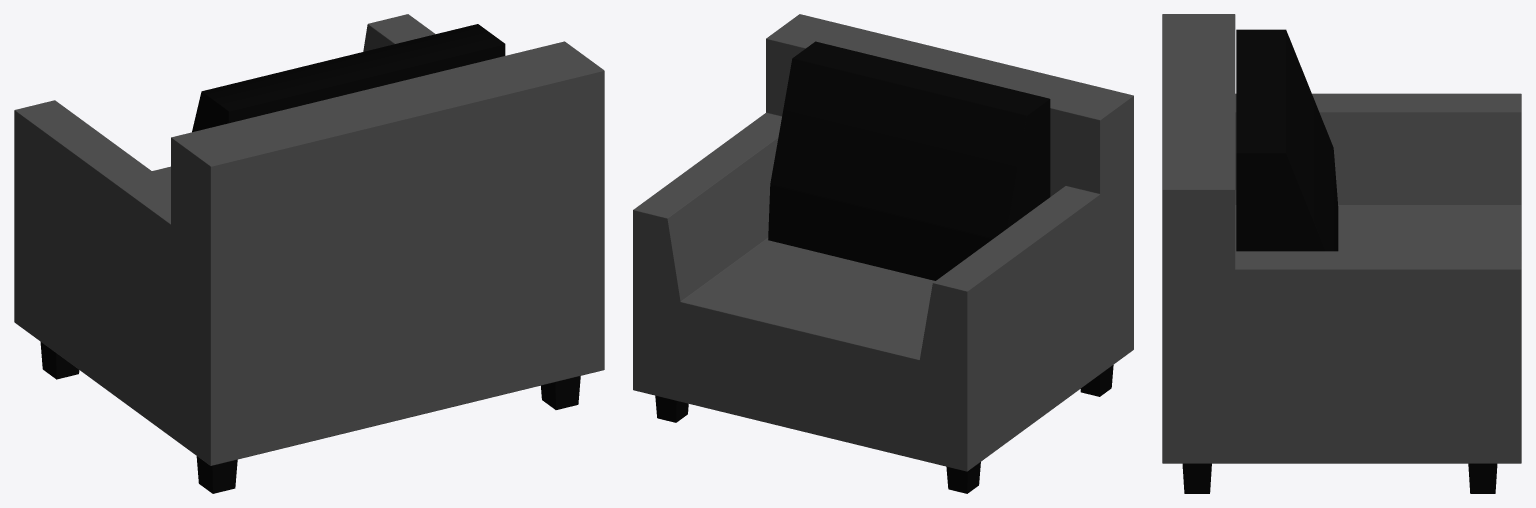
Rendered from Sillon1.fbx.
3 renders of one model, left to right at view 1: azimuth 30°, elevation 25°; view 2: azimuth 150°, elevation 25°; view 3: azimuth 270°, elevation 25°, orthographic. The views are drawn at different scales.
Visible parts, largest first — view 1: Armchair; view 2: Armchair; view 3: Armchair.
Boxes of the visible parts, x1=… form: Armchair: x1=14, y1=14, x2=604, y2=493; Armchair: x1=633, y1=14, x2=1133, y2=493; Armchair: x1=1162, y1=14, x2=1521, y2=493.
Bounding box in the file's own units: 94.5 × 80.53 × 81.6.
1 material, 1 textured.
